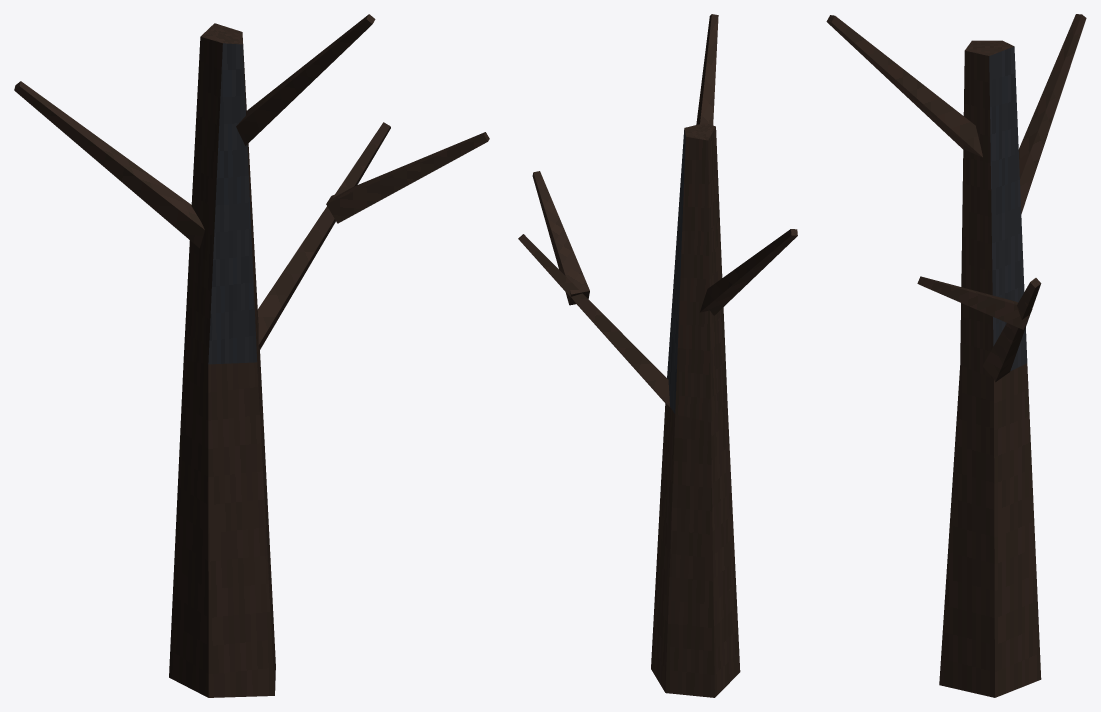
File: tree_dead.glb
The picture shows the model from 3 angles, left to right: view 1: azimuth 30°, elevation 25°; view 2: azimuth 150°, elevation 25°; view 3: azimuth 270°, elevation 25°; orthographic projection. The views are drawn at different scales.
Parts seen in each view (by area): view 1: tree_dead; view 2: tree_dead; view 3: tree_dead.
Part boxes in pixels (left/top/right/bottom): tree_dead: left=14, top=14, right=489, bottom=697; tree_dead: left=518, top=14, right=797, bottom=697; tree_dead: left=826, top=14, right=1086, bottom=697.
Size of the model in its own units: 1.94 by 3.34 by 1.14.
1 material, 1 textured.
